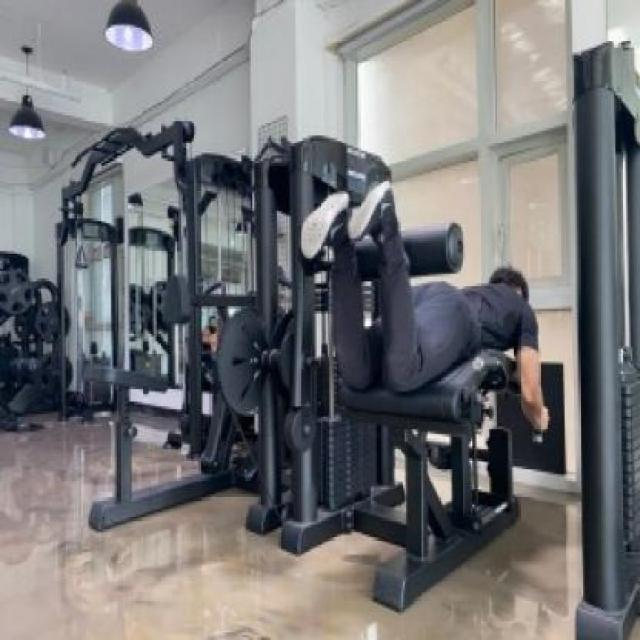reg curl machine: (215, 122, 551, 612)
